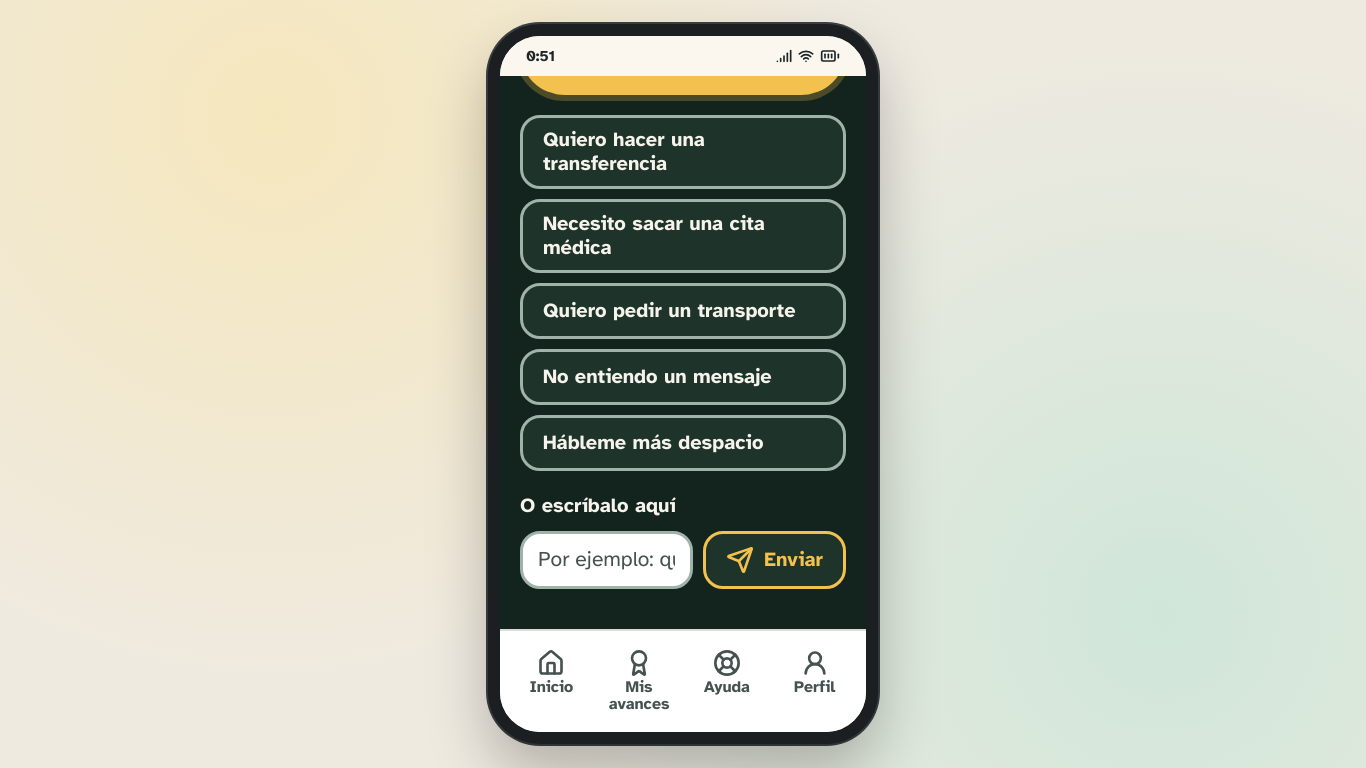
Test: pantalla 5: copiloto sin micrófono › confianza media: ofrece 2 o 3 opciones
(page scrolled)
Type "quiero pagar en la tienda con el banco" into the field labelled "O escríbalo aquí".
click(607, 560); type("quiero pagar en la tienda con el banco")  # box [520,531,693,589]
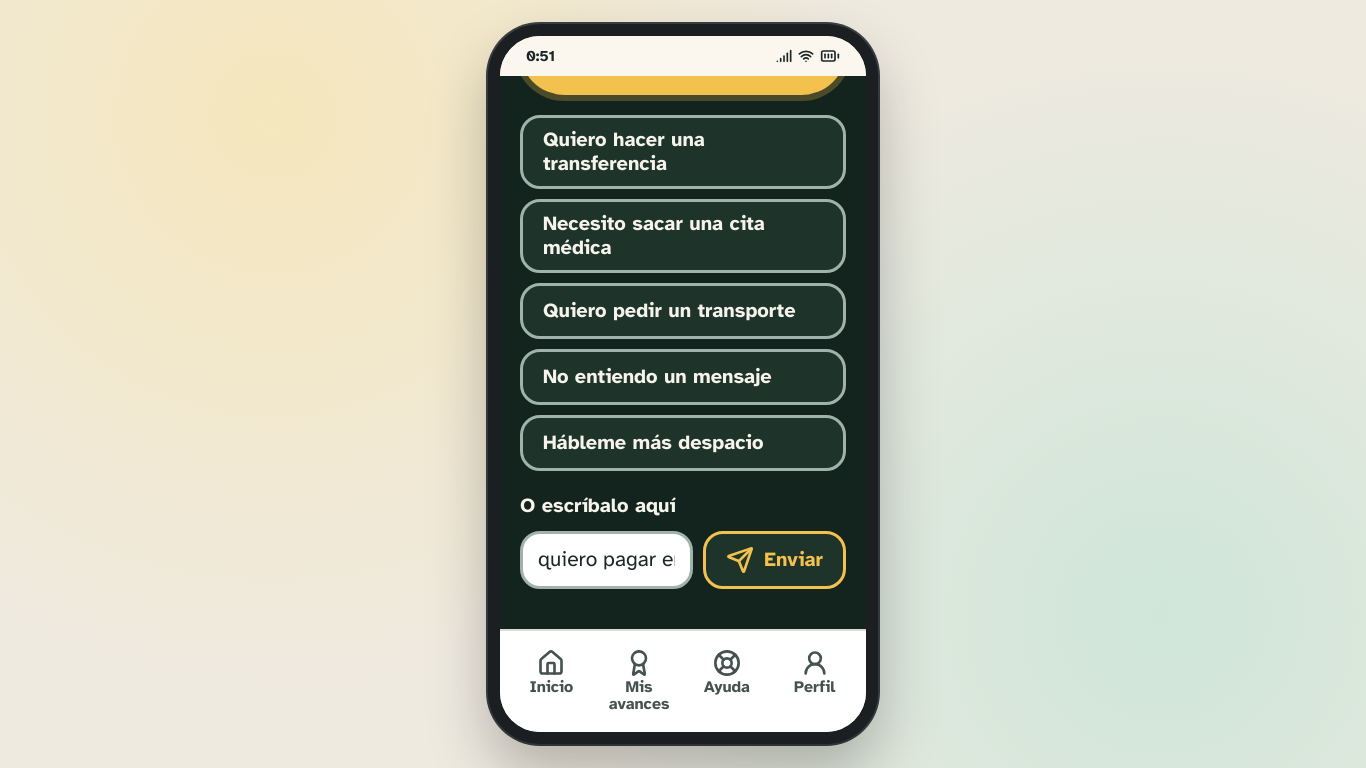
Click the button "Enviar".
click(775, 560)  # box [703,531,846,589]
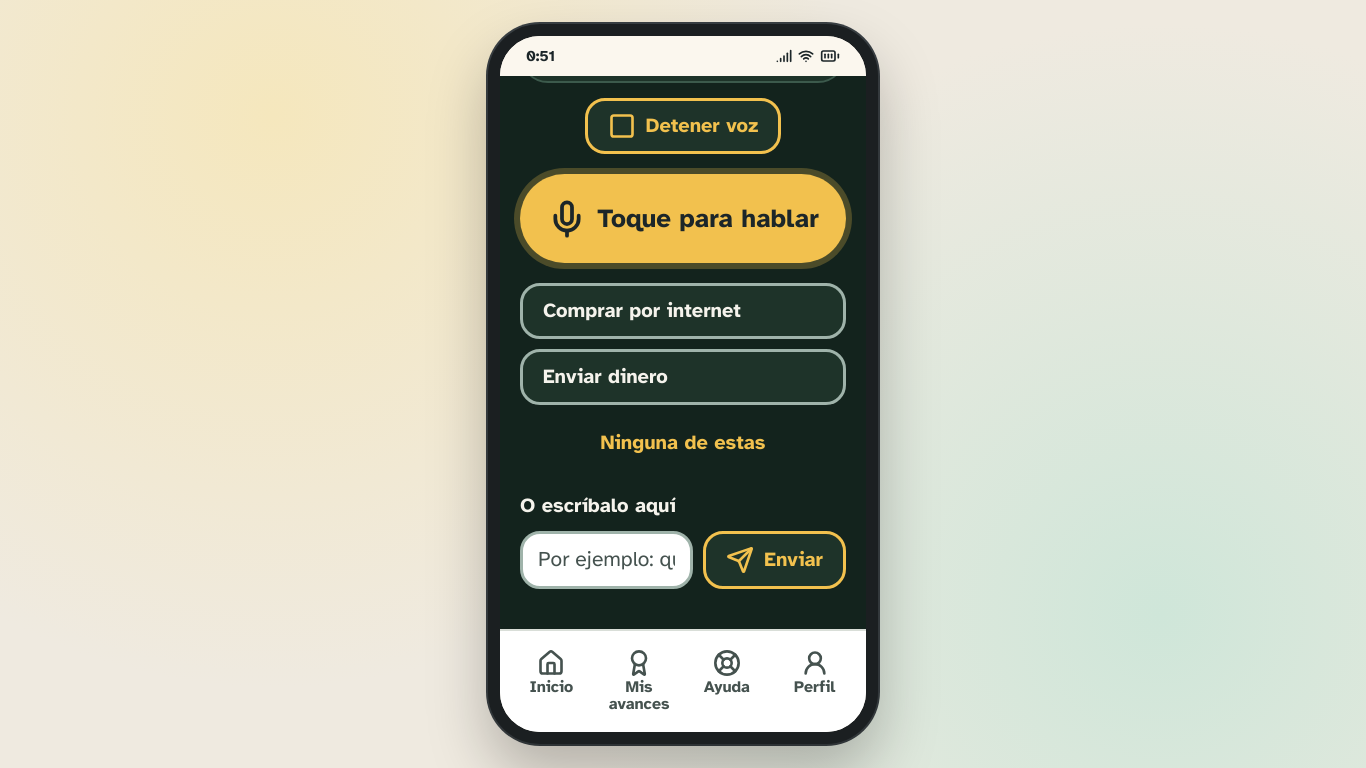
Now the button "Ninguna de estas" is shown, box [520,416,846,472]
